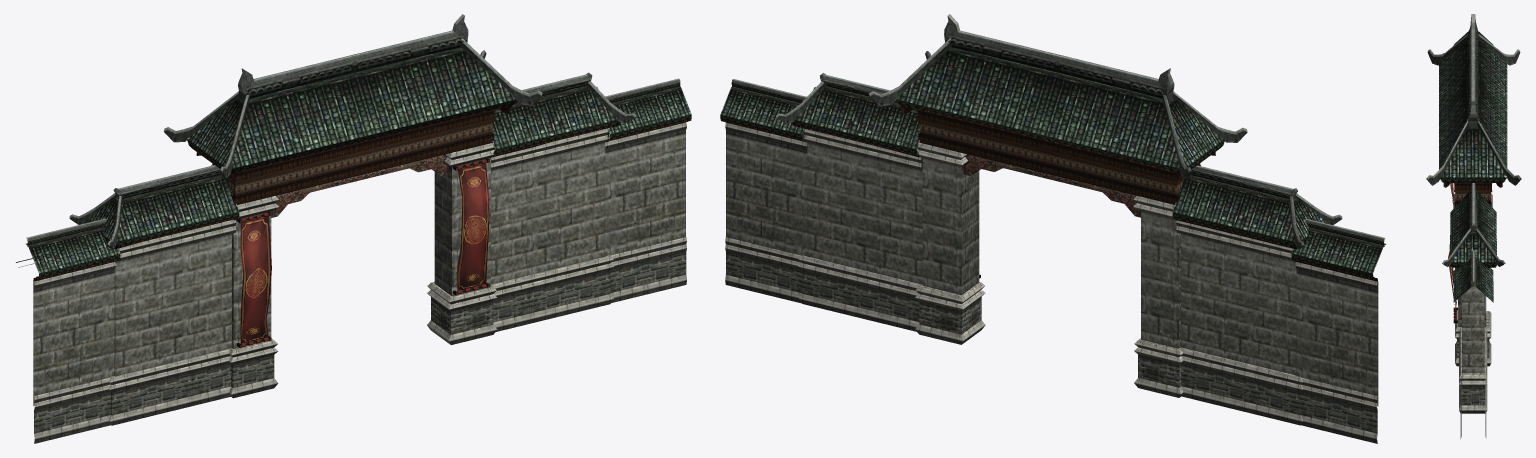
Rendered from c1-002-inwall-01.glb.
3 renders of one model, left to right at view 1: azimuth 30°, elevation 25°; view 2: azimuth 150°, elevation 25°; view 3: azimuth 270°, elevation 25°, orthographic. The views are drawn at different scales.
Visible parts, largest first — view 1: Mesh04; view 2: Mesh04; view 3: Mesh04.
Boxes of the visible parts, x1,y1,x2,y2 form: Mesh04: (16,14,691,443); Mesh04: (720,14,1386,443); Mesh04: (1426,14,1521,438).
Bounding box in the file's own units: 26.85 × 12.47 × 4.19.
Materials: 2 (2 with a texture image).
